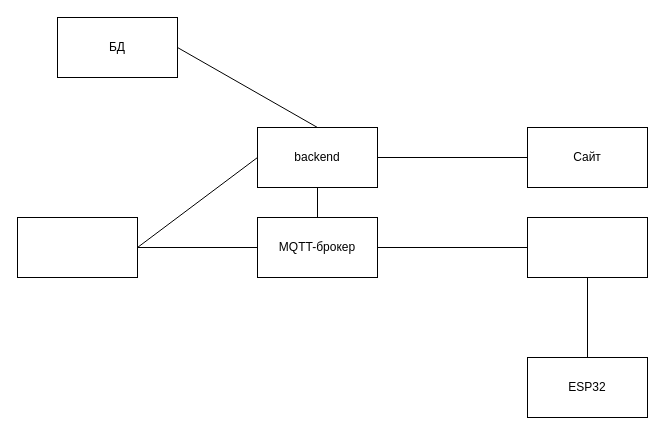
Image size: 665x435. Some labels were removed from this diagram. The box of each missing label's shape, as (x1, y1, x2, y2) in pixels:
Android: (526, 216, 648, 278)
Оператор: (16, 216, 138, 278)
